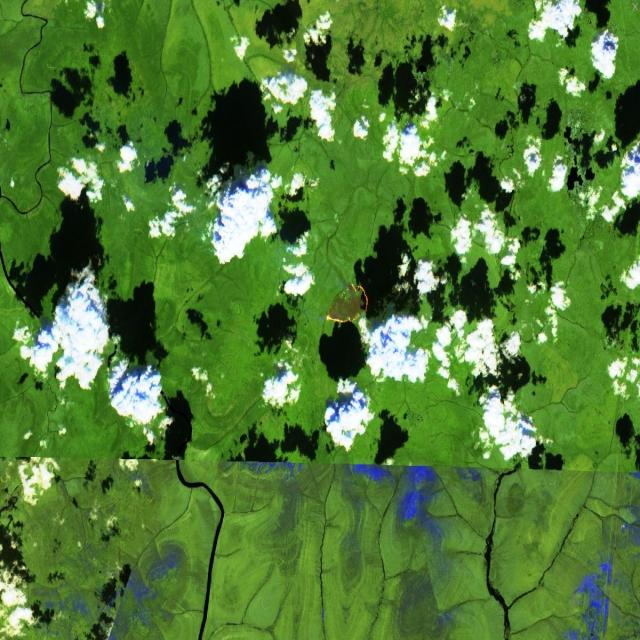fire: (322, 276, 373, 333)
